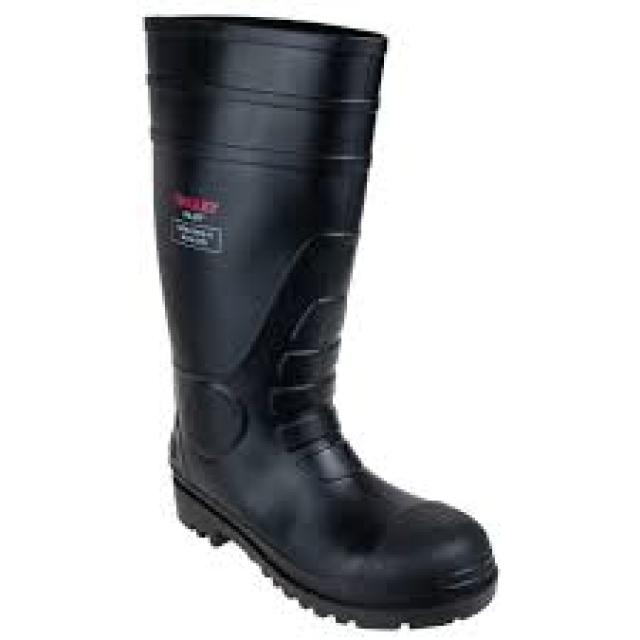shoes: (149, 18, 498, 627)
